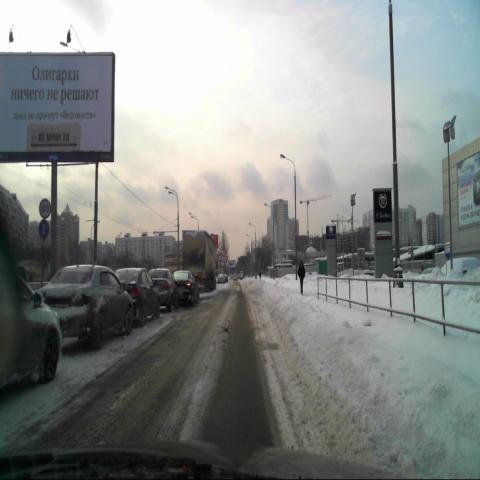3_30: (38, 220, 50, 241)
